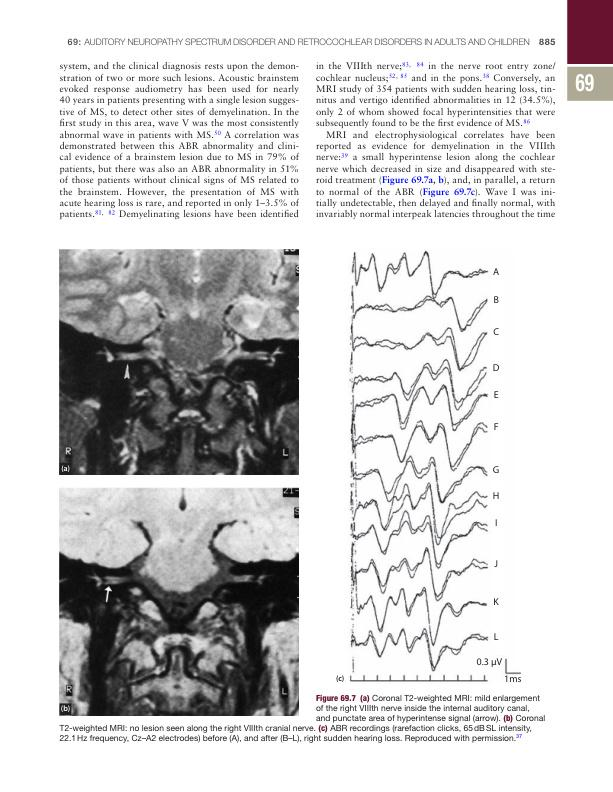caption: (58, 723, 547, 744), (315, 693, 547, 723), (59, 703, 71, 714), (60, 463, 71, 473), (335, 674, 346, 683)
header: (66, 36, 532, 47)
image: (319, 246, 528, 688), (58, 486, 299, 717), (58, 247, 299, 475)
text: (314, 60, 556, 221), (58, 61, 300, 221)
